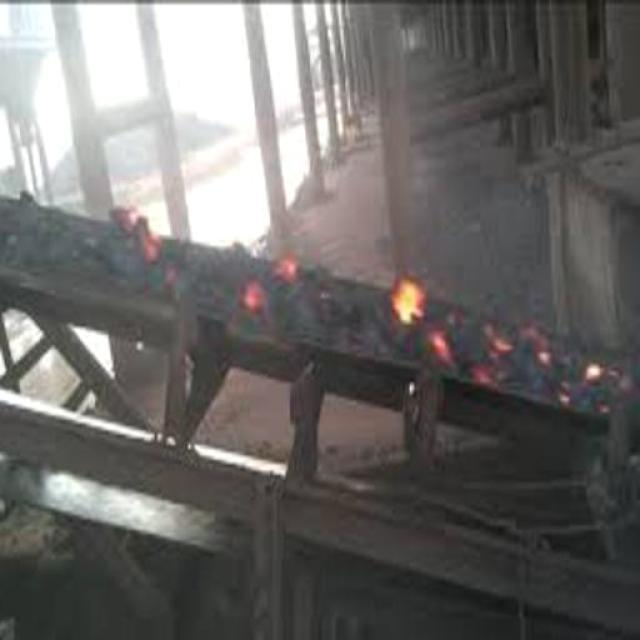conveyor: (0, 194, 640, 422)
